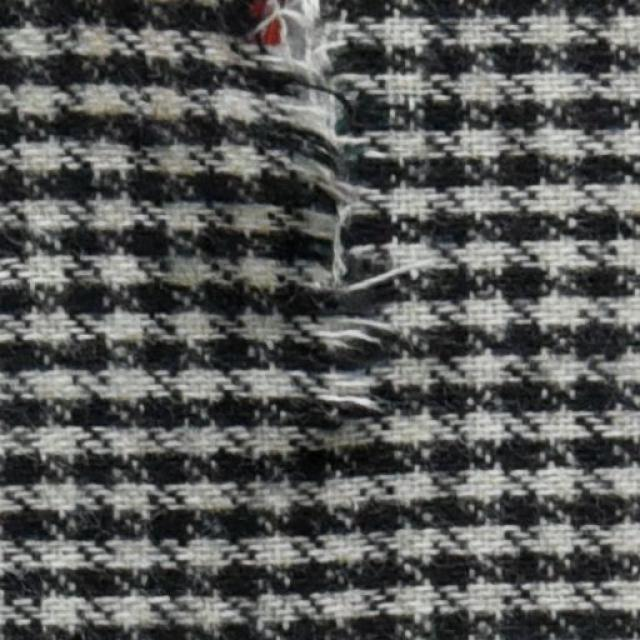Snag: (251, 0, 410, 436)
